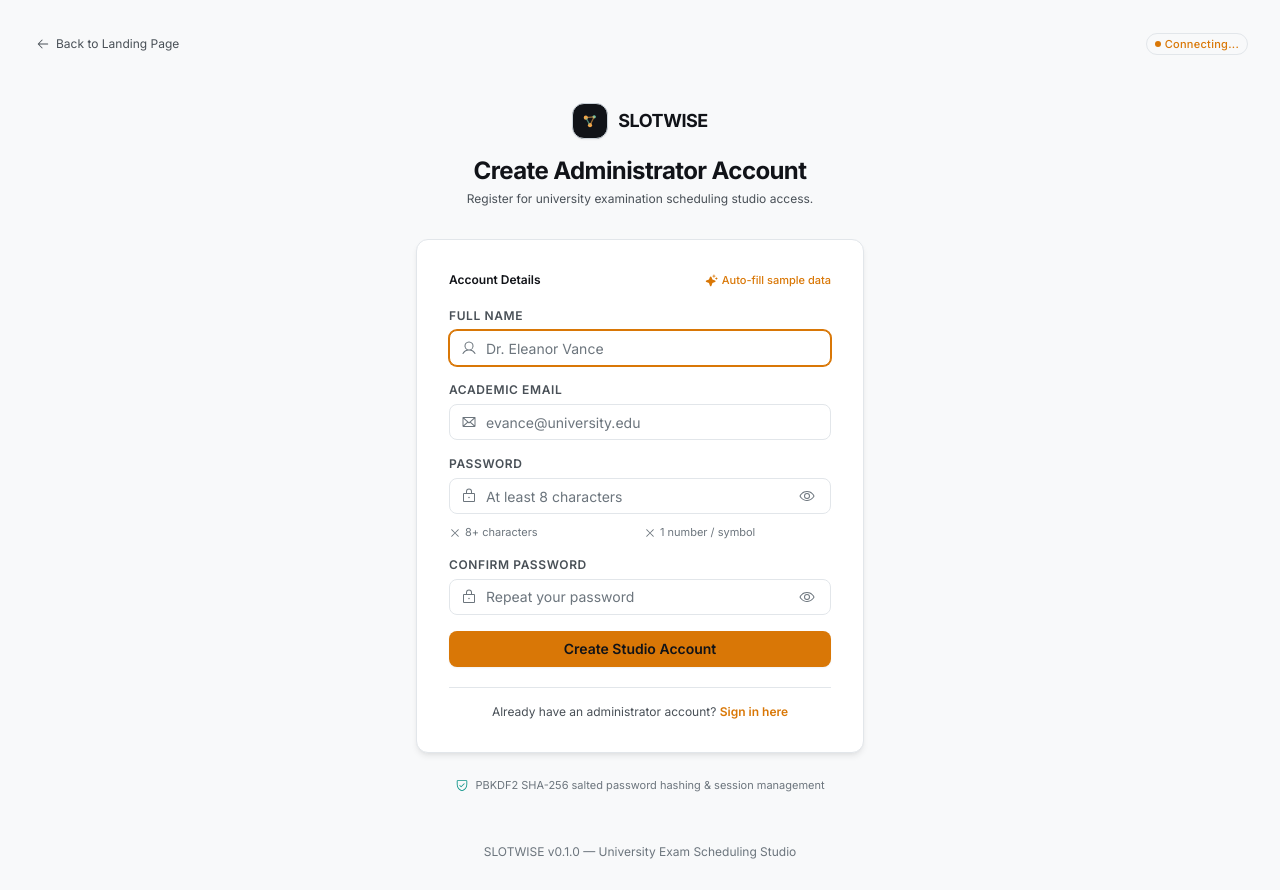
Authentication & Protected Routes › Signup Form Validation › validates password minimum length and confirmation matching
Type "Prof. Alan Turing" into the field labelled "Full Name" at (640, 348), box [449,330,831,366]
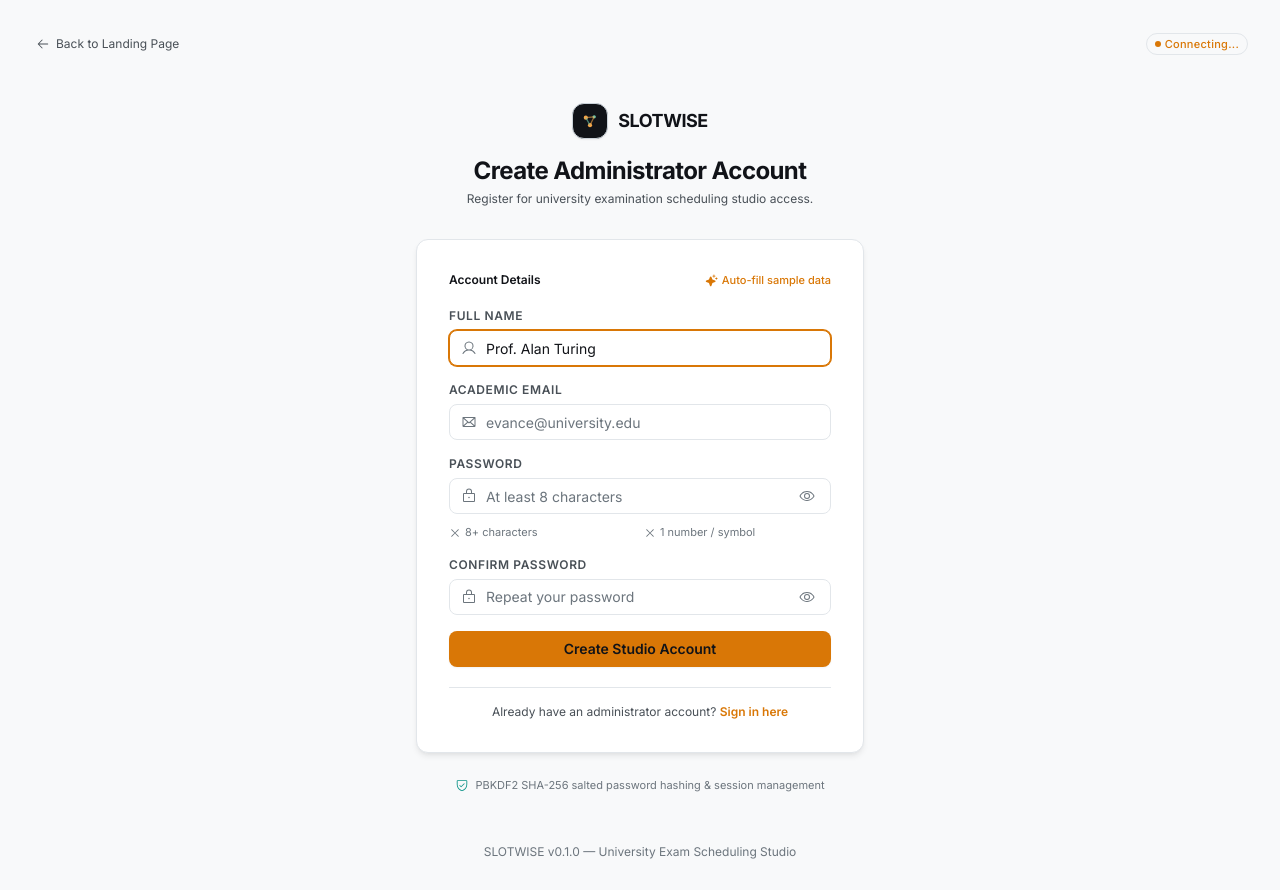
Type "turing@cambridge.ac.uk" into the field labelled "Academic Email" at (640, 422), box [449,404,831,440]
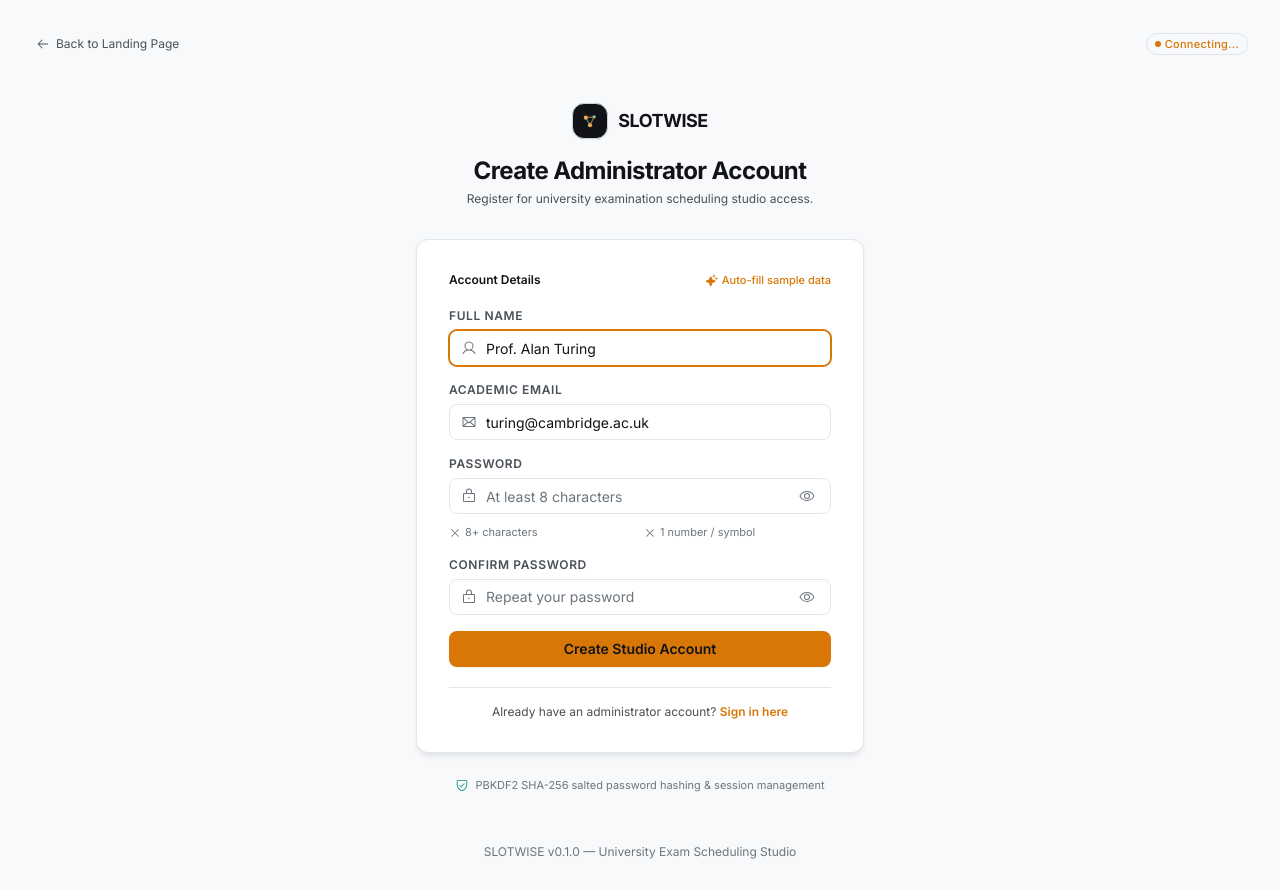
Type "short1" into the password field with placeholder "At least 8 characters" at (640, 496), box [449,478,831,514]
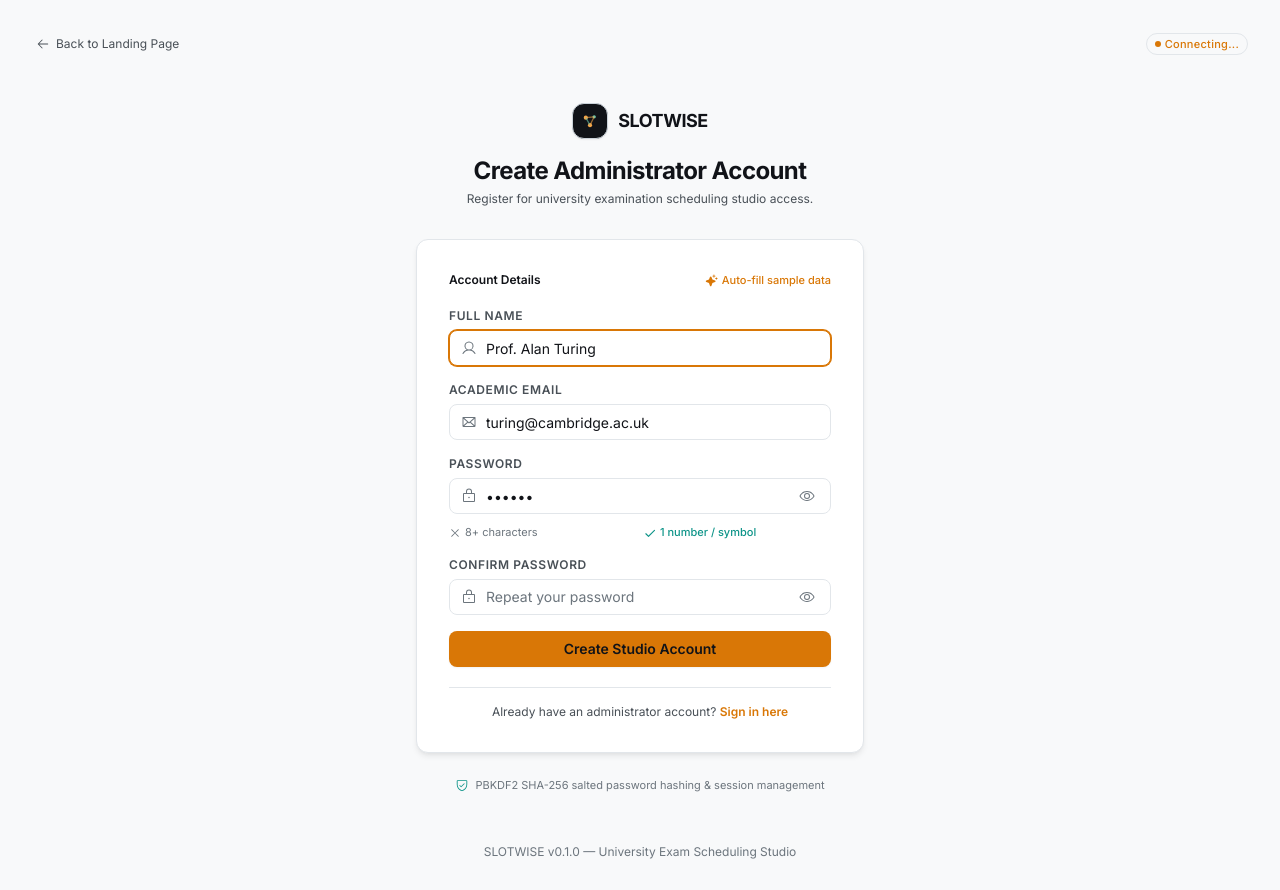
Type "different123" into the password field with placeholder "Repeat your password" at (640, 597), box [449,579,831,615]
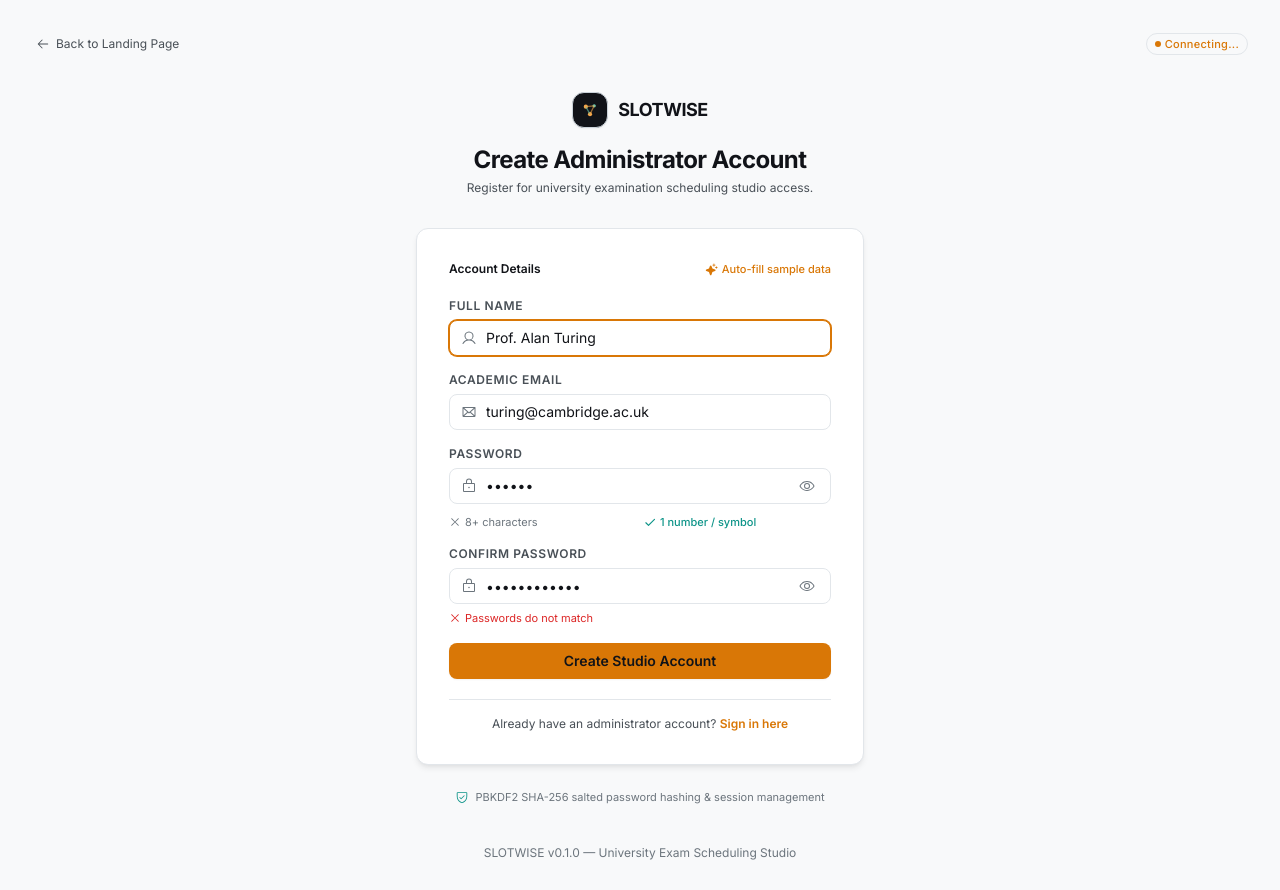
Click the button "Create Studio Account" at (640, 660), box [449,642,831,678]
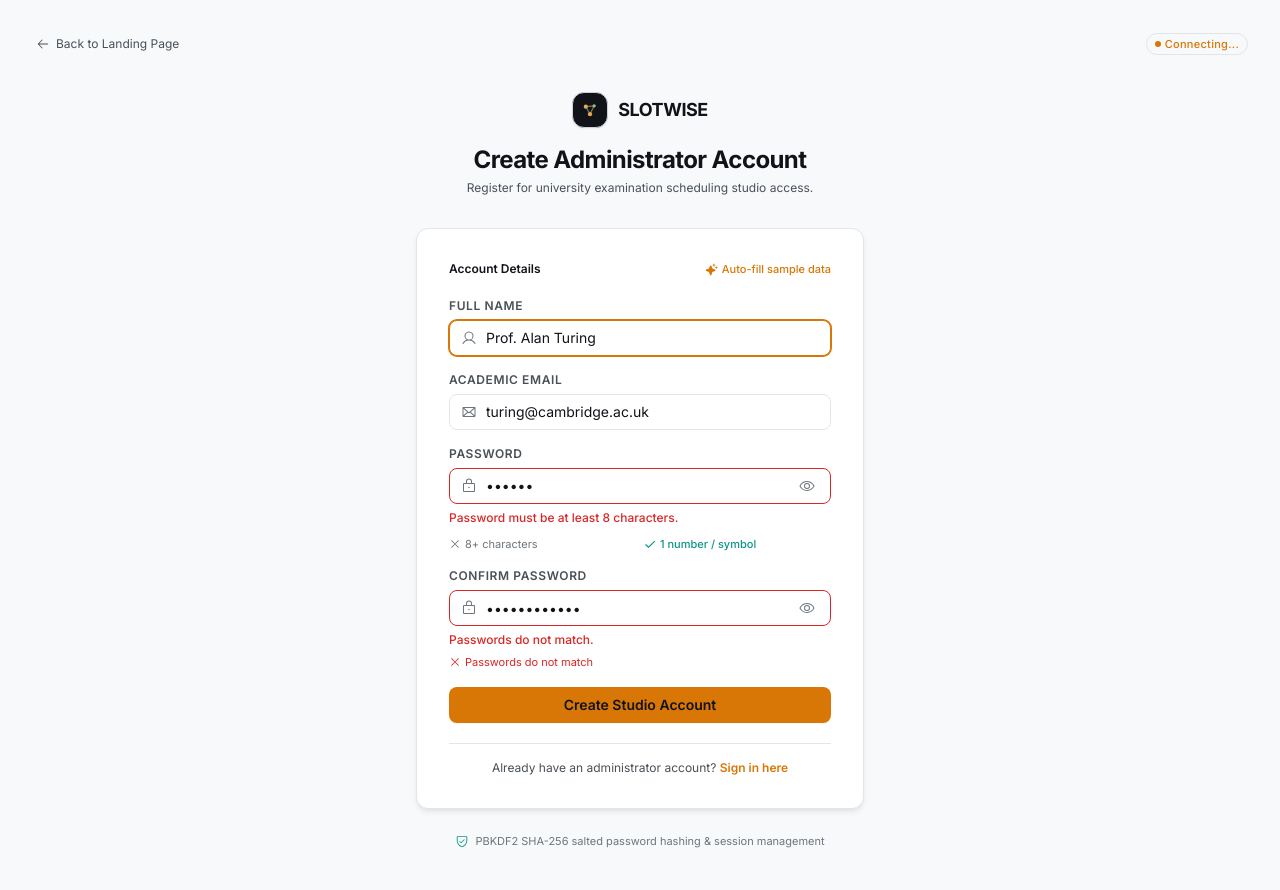
expect the text "Password must be at least 8 characters." is shown: met, box [449,510,678,524]
expect the text "Passwords do not match." is shown: met, box [449,632,594,647]
